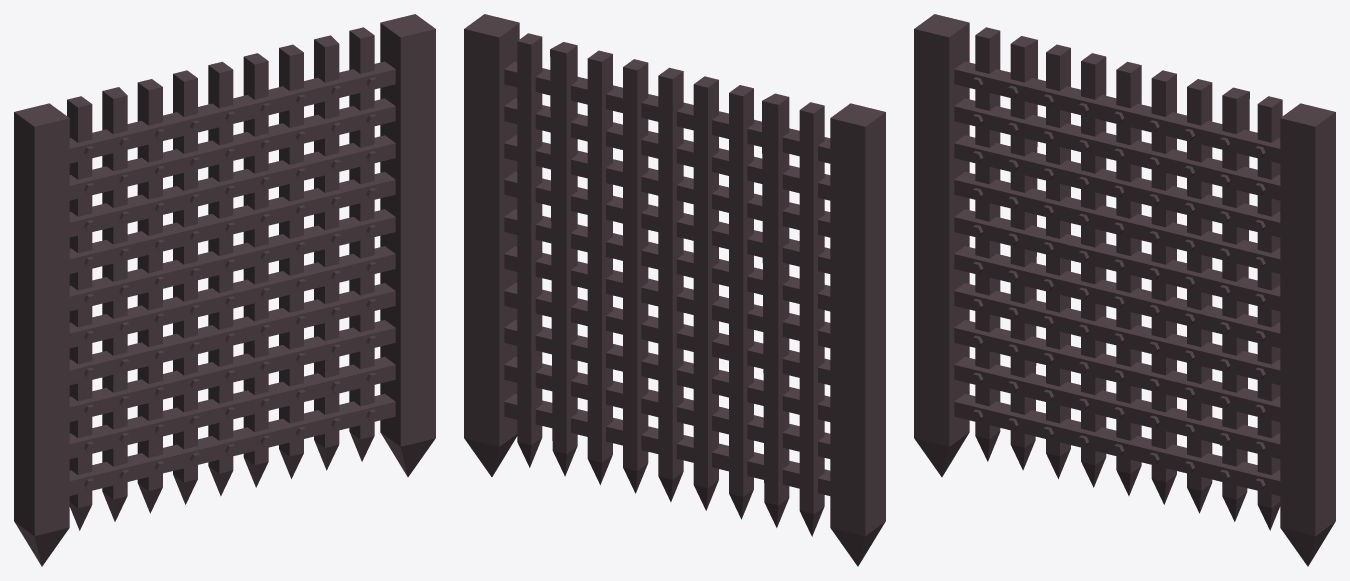
File: dropgate.glb
3 renders of one model, left to right at view 1: azimuth 30°, elevation 25°; view 2: azimuth 150°, elevation 25°; view 3: azimuth 330°, elevation 25°, orthographic.
Visible parts, largest first — view 1: Cube.001; view 2: Cube.001; view 3: Cube.001.
Part boxes in pixels (<box>): Cube.001: <box>14,14,435,566</box>; Cube.001: <box>464,14,885,566</box>; Cube.001: <box>914,14,1335,566</box>.
Bounding box in the file's own units: 22.74 × 24.48 × 2.
1 material, 1 textured.
